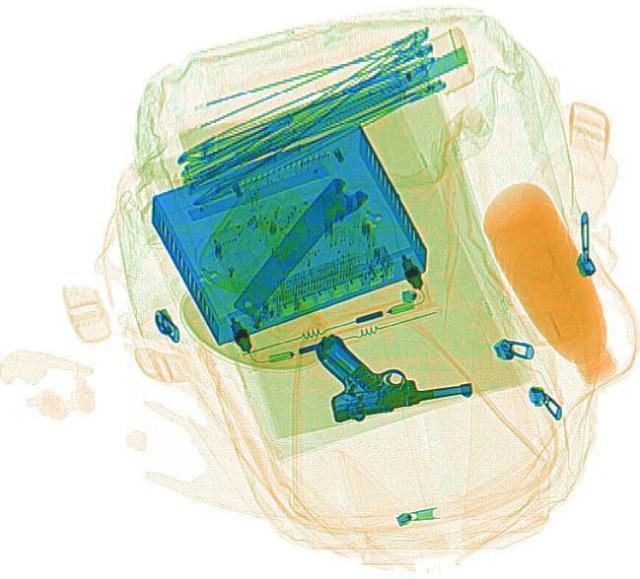Gun: (308, 312, 476, 424)
